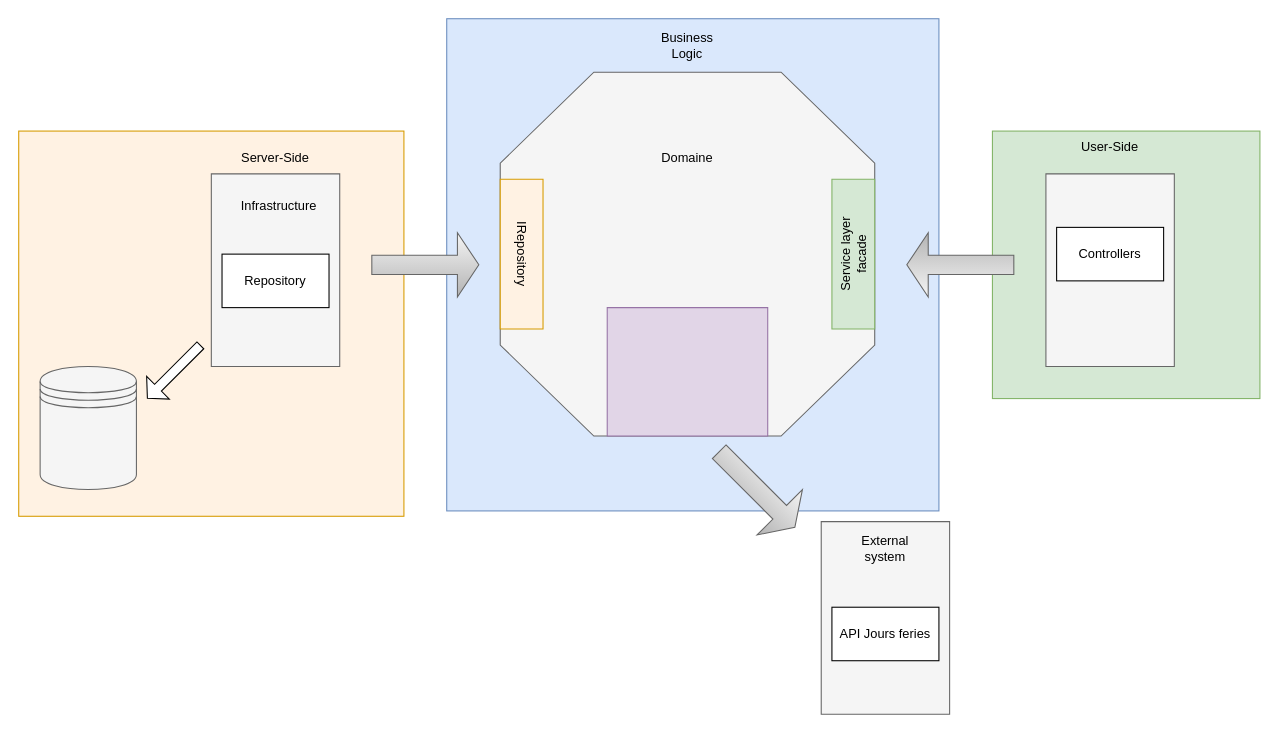
Image size: 1279x733. Some labels were removed from this diagram. The centre of each missing label's shape, as x and y in pixels:
"DB" goes at (x=87, y=427).
"Services" goes at (x=687, y=371).
